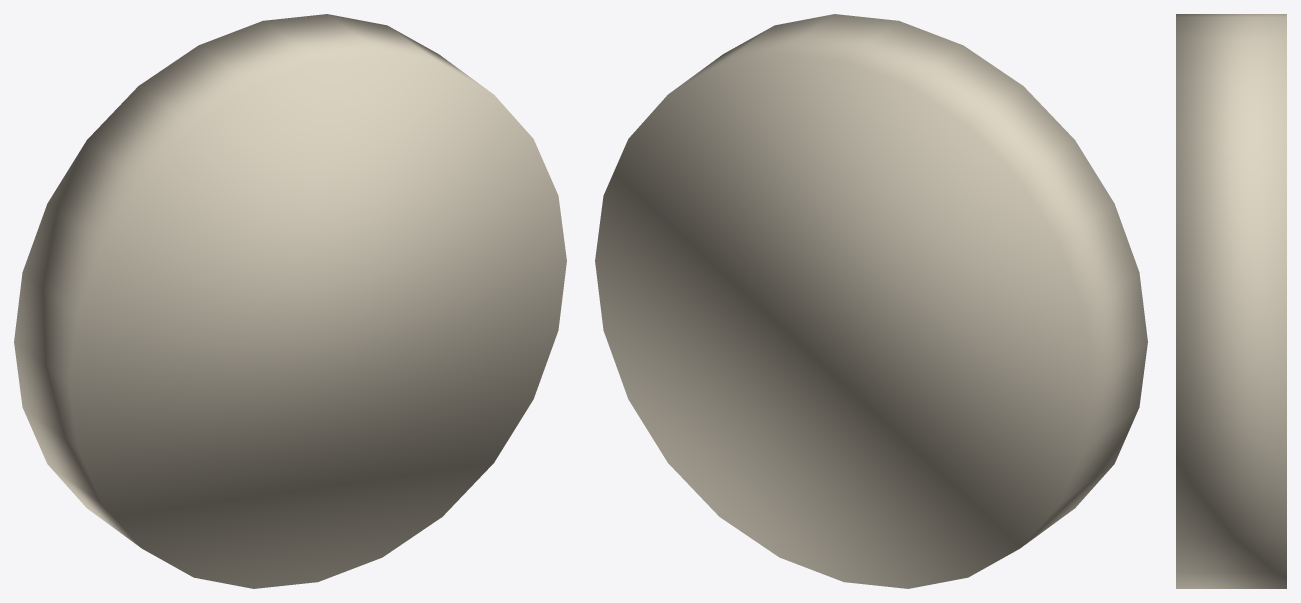
Rendered from shape-circle-colorless.glb.
The picture shows the model from 3 angles, left to right: view 1: azimuth 30°, elevation 25°; view 2: azimuth 150°, elevation 25°; view 3: azimuth 270°, elevation 25°; orthographic projection.
Parts seen in each view (by area): view 1: solid circle; view 2: solid circle; view 3: solid circle.
Part boxes in pixels (<box>): solid circle: <box>14,14,566,588</box>; solid circle: <box>595,14,1147,588</box>; solid circle: <box>1176,14,1286,588</box>.
Size of the model in its own units: 1.3 by 1.3 by 0.25.
